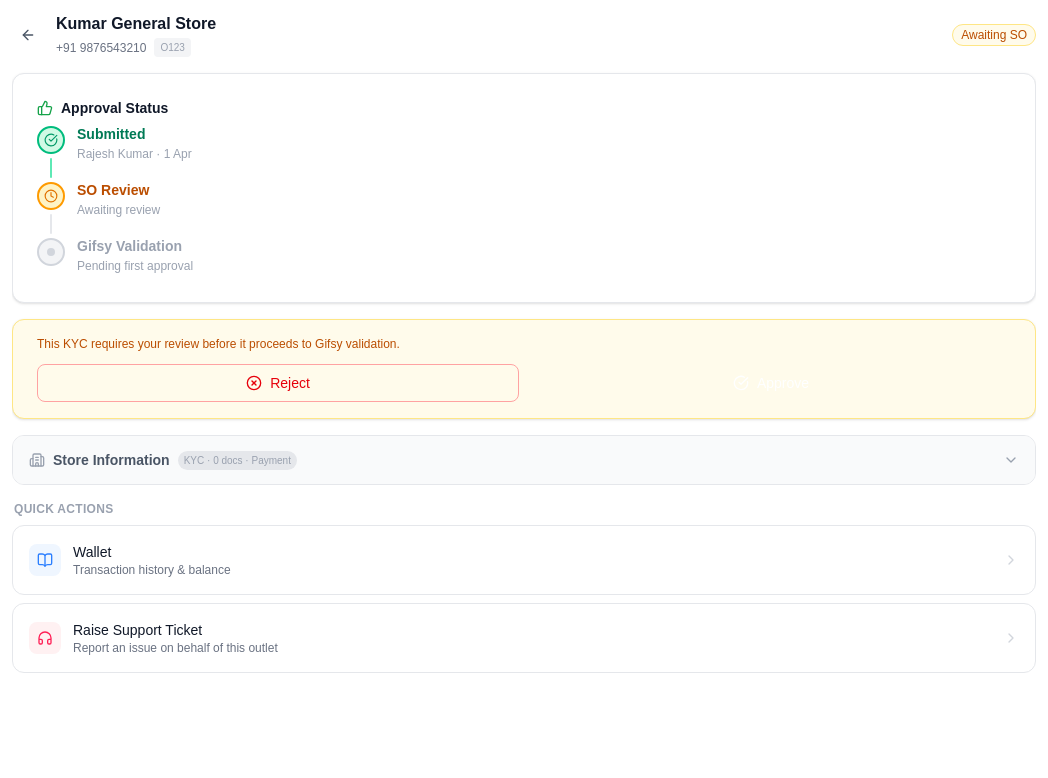
Test: SPV — Sales KYC verified-on-parent badge › SPV3: a masked reader still gets the badge (parentVerified pre-mask)
Expected: the heading "Kumar General Store" is shown, [56, 15, 216, 32]
Click the button "Store Information KYC · 0 docs · Payment" at (111, 460), box [13, 436, 1035, 484]
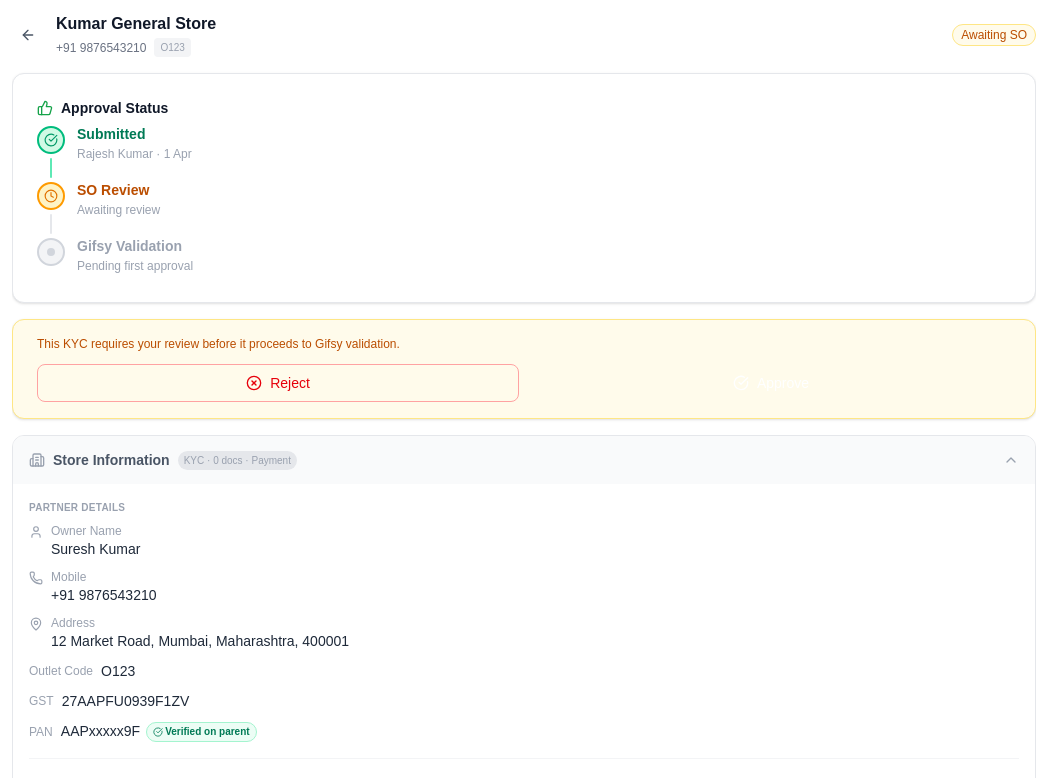
Now the element with test id "verified-on-parent-badge" is shown, box [146, 722, 257, 742]
